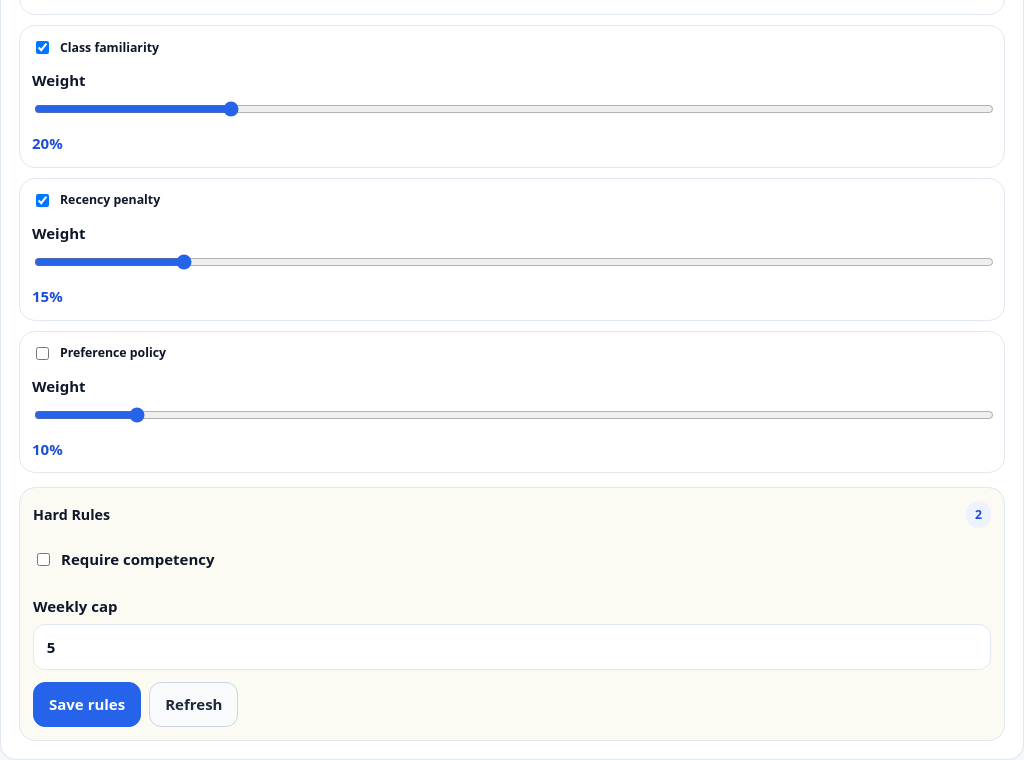
Test case: RuleConfigPanel › loads existing rules and prevents saving with no enabled positive scoring weight
(page scrolled)
Click the button "Refresh" at (194, 704), box [149,682,238,727]
(page scrolled)
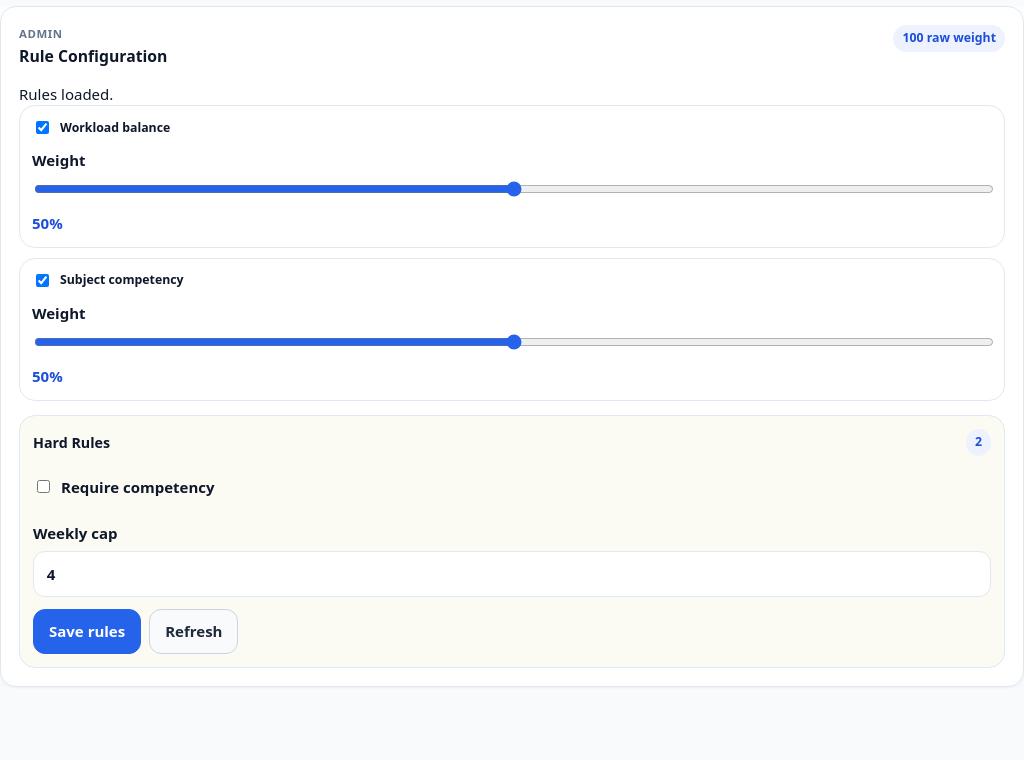
expect the text "Rules loaded." is shown: met, box [19,84,113,104]
expect the number field named "Weekly substitute cap" holds "4": met, box [33,552,991,597]
Click the checkbox named "Enable Workload balance" at (42, 128), box [36,121,49,134]
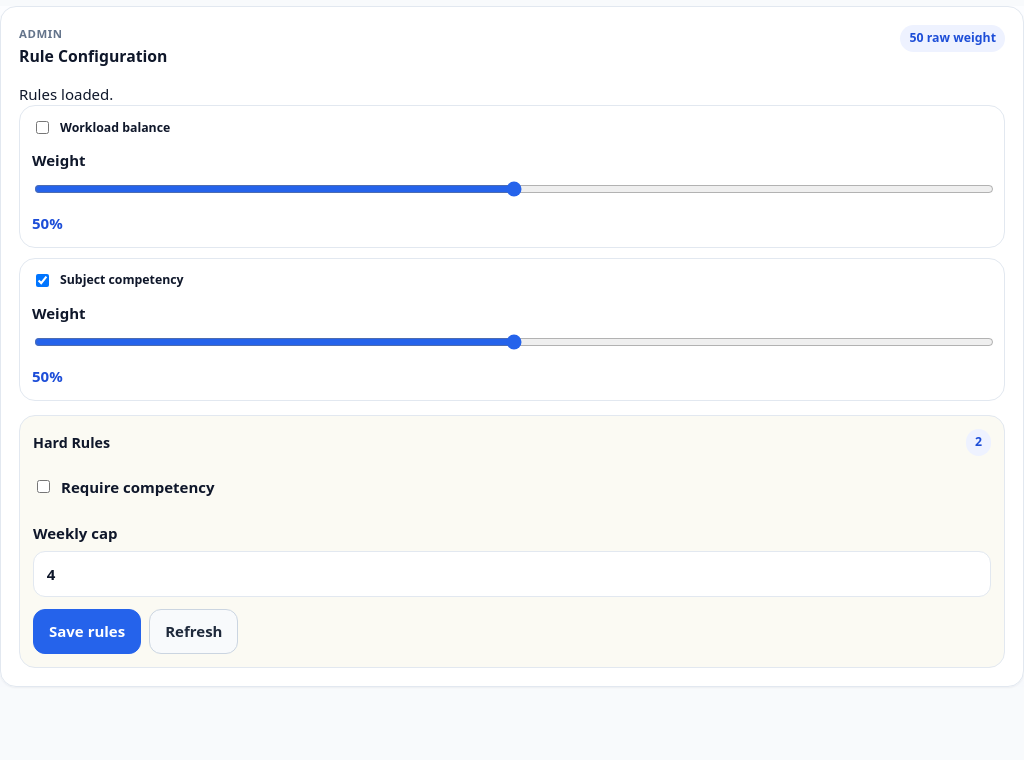
Click the checkbox named "Enable Subject competency" at (42, 280), box [36,274,49,287]
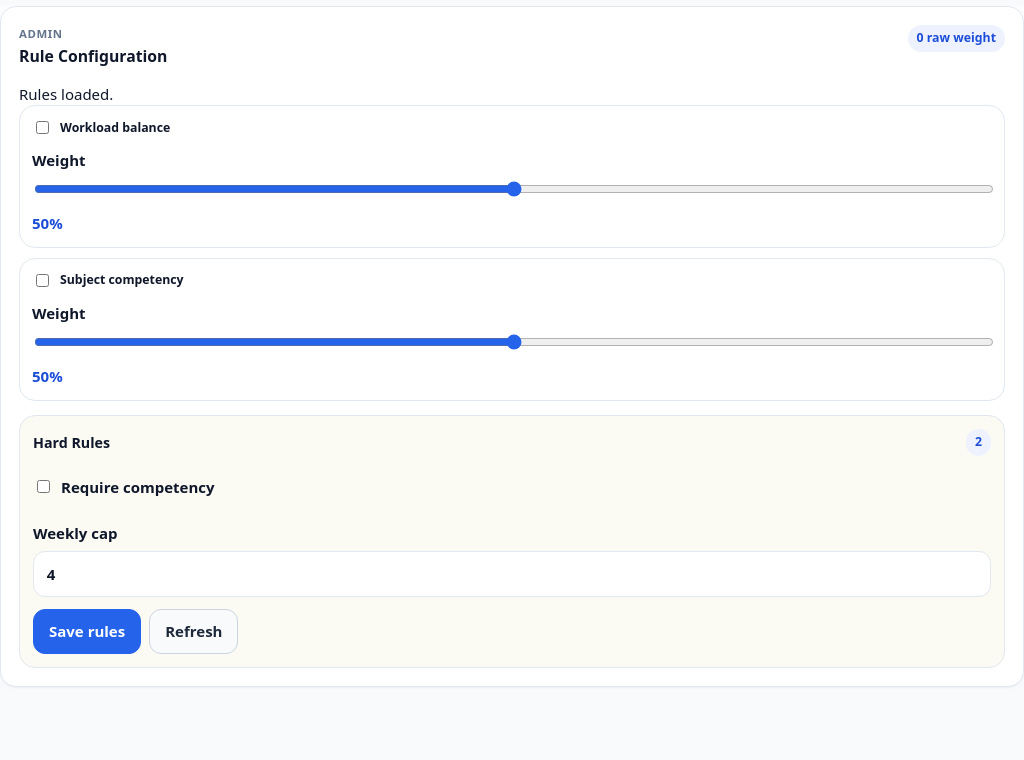
Click the button "Save rules" at (87, 632), box [33,609,141,654]
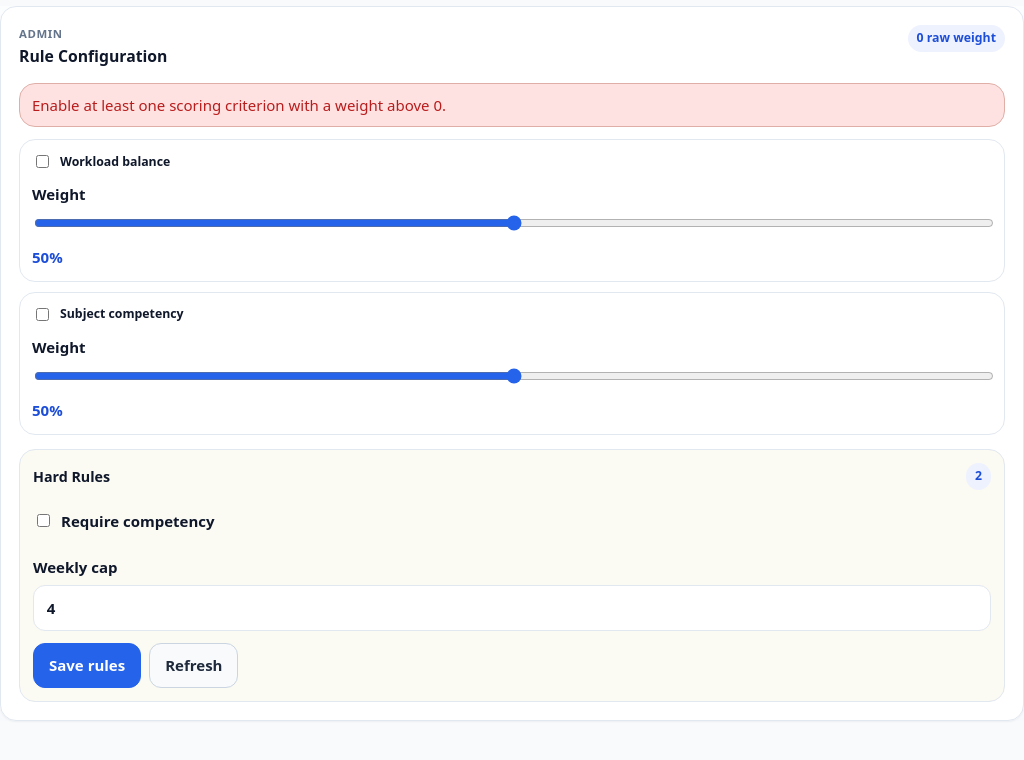
expect the text "Enable at least one scoring criterion with a weight above 0." is shown: met, box [19,83,1005,127]
